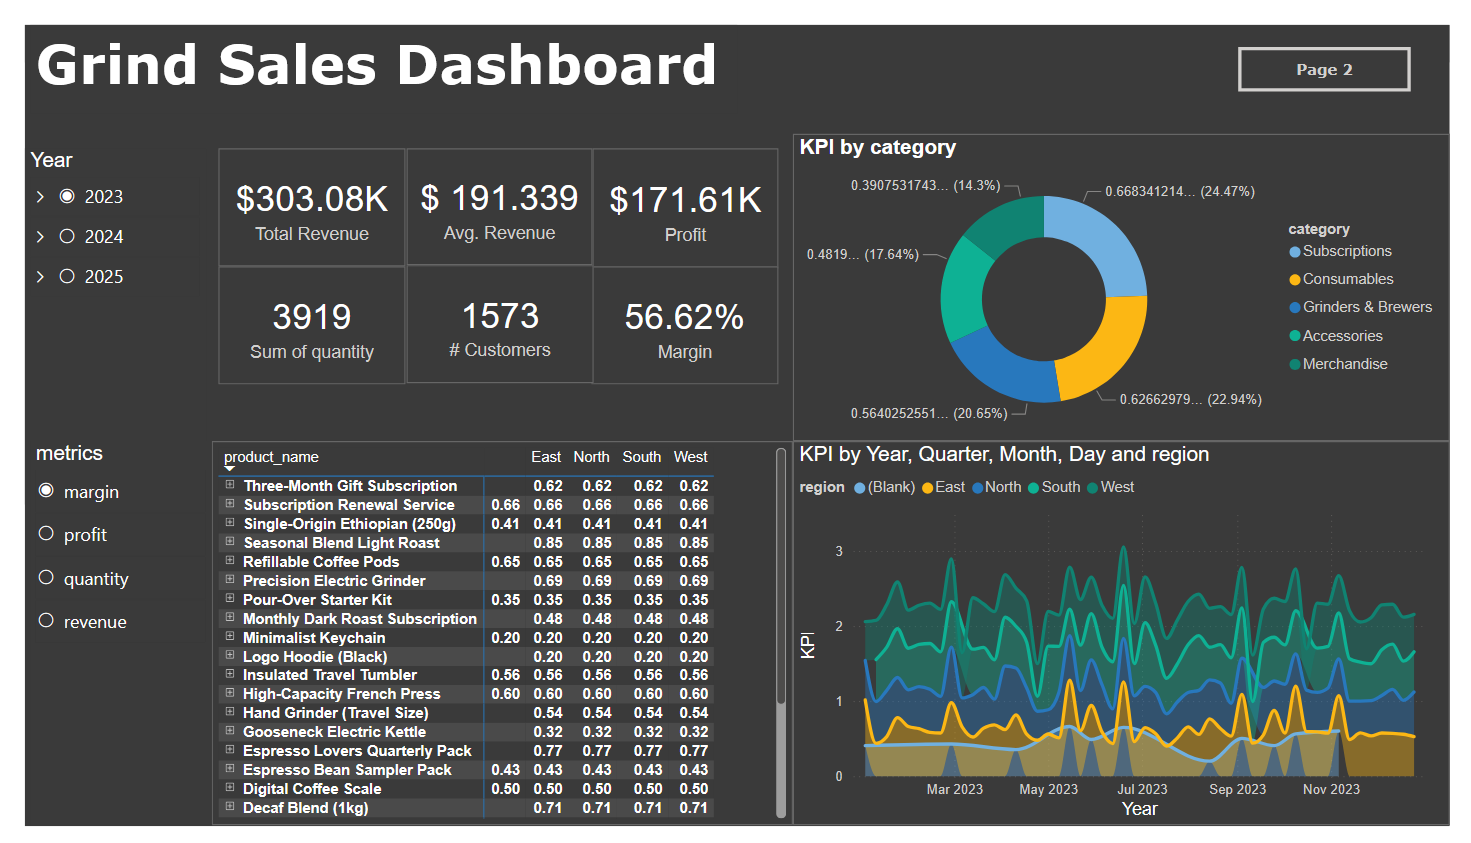

The page's visual inventory and layout, read from the dashboard file:
{"tool":"powerbi","page":{"name":"Page 1","canvas":[1280,720],"ordinal":0},"visuals":[{"type":"donutChart","fields":{"Category":["gold final_table.category"],"Y":["gold final_table.KPI"]},"box":[690.5,98.4,589,275.6],"z":0},{"type":"stackedAreaChart","fields":{"Series":["gold final_table.region"],"Y":["gold final_table.KPI"],"Category":["gold final_table.weak_date.Variation.Date Hierarchy.Year","gold final_table.weak_date.Variation.Date Hierarchy.Quarter","gold final_table.weak_date.Variation.Date Hierarchy.Month","gold final_table.weak_date.Variation.Date Hierarchy.Day"]},"box":[690.5,374,589,345.2],"z":1000},{"type":"pivotTable","fields":{"Columns":["gold final_table.region","gold final_table.ord_date.Variation.Date Hierarchy.Year","gold final_table.ord_date.Variation.Date Hierarchy.Quarter","gold final_table.ord_date.Variation.Date Hierarchy.Month","gold final_table.ord_date.Variation.Date Hierarchy.Day","gold final_table.region"],"Rows":["gold final_table.product_name","gold final_table.ord_date.Variation.Date Hierarchy.Year","gold final_table.ord_date.Variation.Date Hierarchy.Quarter","gold final_table.ord_date.Variation.Date Hierarchy.Month","gold final_table.ord_date.Variation.Date Hierarchy.Day"],"Values":["gold final_table.KPI"]},"box":[167.5,373.8,522.5,345],"z":2000},{"type":"listSlicer","fields":{"Values":["gold final_table.weak_date.Variation.Date Hierarchy.Year","gold final_table.weak_date.Variation.Date Hierarchy.Quarter","gold final_table.weak_date.Variation.Date Hierarchy.Month","gold final_table.weak_date.Variation.Date Hierarchy.Day"]},"box":[0,111.2,162.5,320],"z":3000},{"type":"card","fields":{"Values":["Sum(gold final_table.profit)"]},"box":[510,110.8,166.9,108.5],"z":4000},{"type":"card","fields":{"Values":["gold final_table.Margin"]},"box":[508.8,216.5,168.1,106],"z":5000},{"type":"listSlicer","fields":{"Values":["metric_selector.metrics"]},"box":[5,373.8,162.5,345],"z":6000},{"type":"card","fields":{"Values":["CountNonNull(gold final_table.cust_id)"]},"box":[343,216,167.5,106.2],"z":7000},{"type":"card","fields":{"Values":["Sum(gold final_table.revenue)"]},"box":[174.1,110.5,168.1,106],"z":8000},{"type":"card","fields":{"Values":["Avg(gold final_table.revenue)"]},"box":[343.1,110.8,166.9,105.4],"z":9000},{"type":"textbox","box":[5,0,635,80],"z":10000},{"type":"card","fields":{"Values":["Sum(gold final_table.quantity)"]},"box":[174.2,216.5,168,106],"z":11000},{"type":"actionButton","box":[1090,20,155,40],"z":12000}]}

Visuals, with their boxes in screenshot pixels (x1, y1, x2, y2), scaled from the page's 1280x720 canvas onto the 1471x843 screenshot:
donutChart - gold final_table.category x gold final_table.KPI: l=794, t=115, r=1470, b=438
stackedAreaChart - gold final_table.region x gold final_table.KPI: l=794, t=438, r=1470, b=842
pivotTable - gold final_table.region x gold final_table.ord_date.Variation.Date Hierarchy.Year: l=192, t=438, r=793, b=842
listSlicer - gold final_table.weak_date.Variation.Date Hierarchy.Year x gold final_table.weak_date.Variation.Date Hierarchy.Quarter: l=0, t=130, r=187, b=505
card - Sum(gold final_table.profit): l=586, t=130, r=778, b=257
card - gold final_table.Margin: l=585, t=253, r=778, b=378
listSlicer - metric_selector.metrics: l=6, t=438, r=192, b=842
card - CountNonNull(gold final_table.cust_id): l=394, t=253, r=587, b=377
card - Sum(gold final_table.revenue): l=200, t=129, r=393, b=253
card - Avg(gold final_table.revenue): l=394, t=130, r=586, b=253
textbox: l=6, t=0, r=736, b=94
card - Sum(gold final_table.quantity): l=200, t=253, r=393, b=378
actionButton: l=1253, t=23, r=1431, b=70
